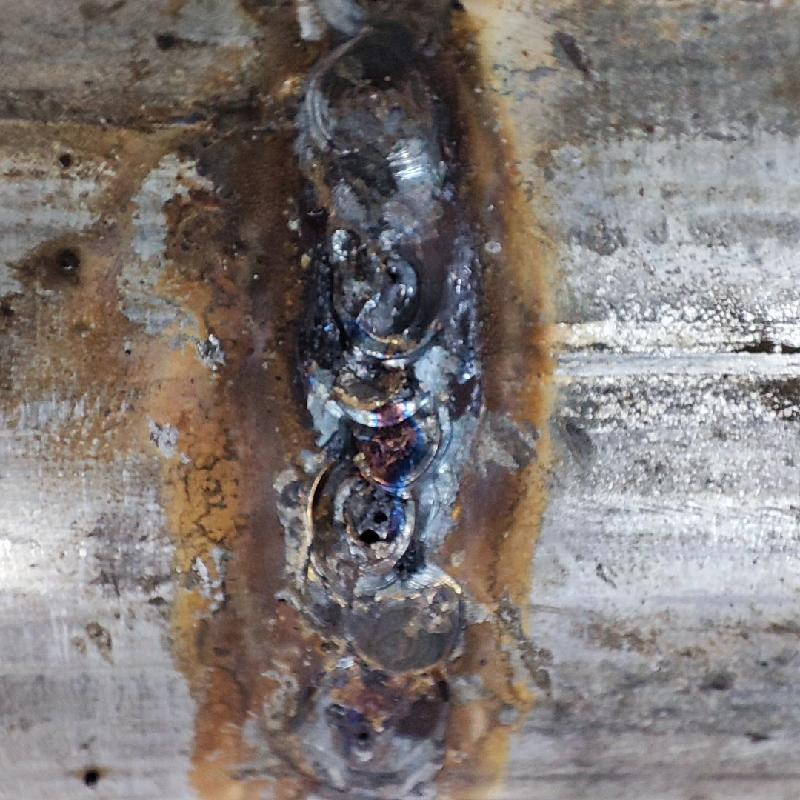Surface_pores: (343, 491, 414, 557)
crater: (285, 1, 483, 776)
